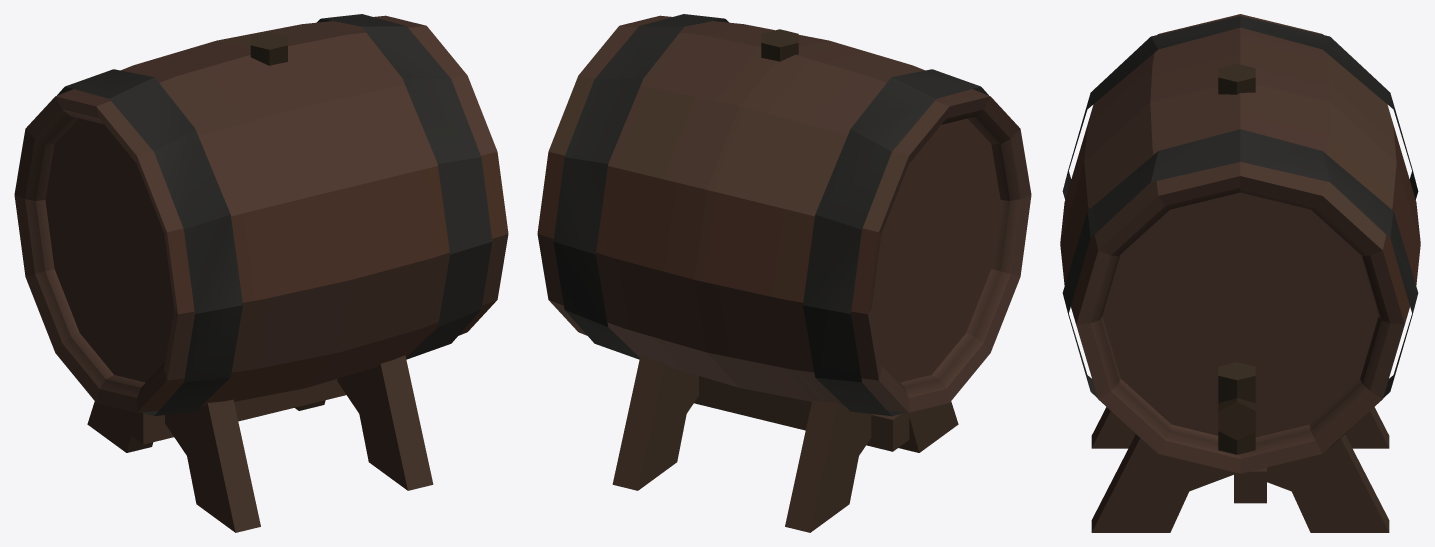
Rendered from Wine_barrel.fbx.
3 renders of one model, left to right at view 1: azimuth 30°, elevation 25°; view 2: azimuth 150°, elevation 25°; view 3: azimuth 270°, elevation 25°, orthographic.
Visible parts, largest first — view 1: barrel_wine; view 2: barrel_wine; view 3: barrel_wine.
Boxes of the visible parts, bbox=[...] form: barrel_wine: bbox=[14, 14, 508, 532]; barrel_wine: bbox=[537, 14, 1031, 532]; barrel_wine: bbox=[1060, 14, 1420, 532].
Bounding box in the file's own units: 3.59 × 3.77 × 2.96.
